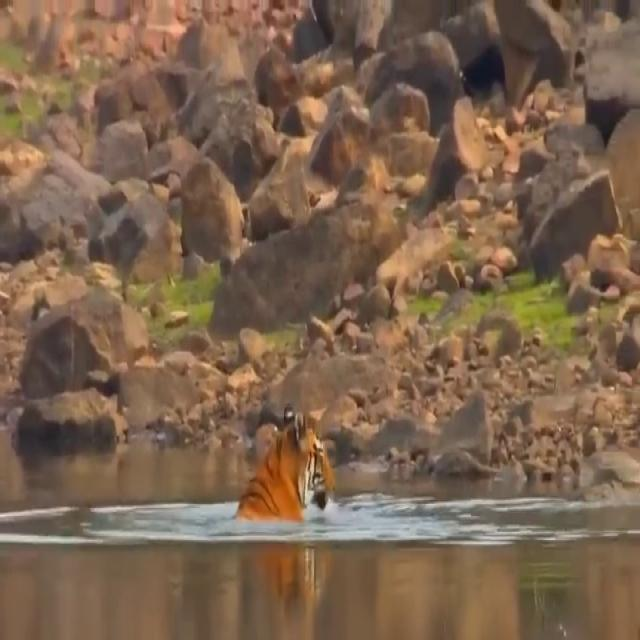tiger: (233, 403, 336, 521)
